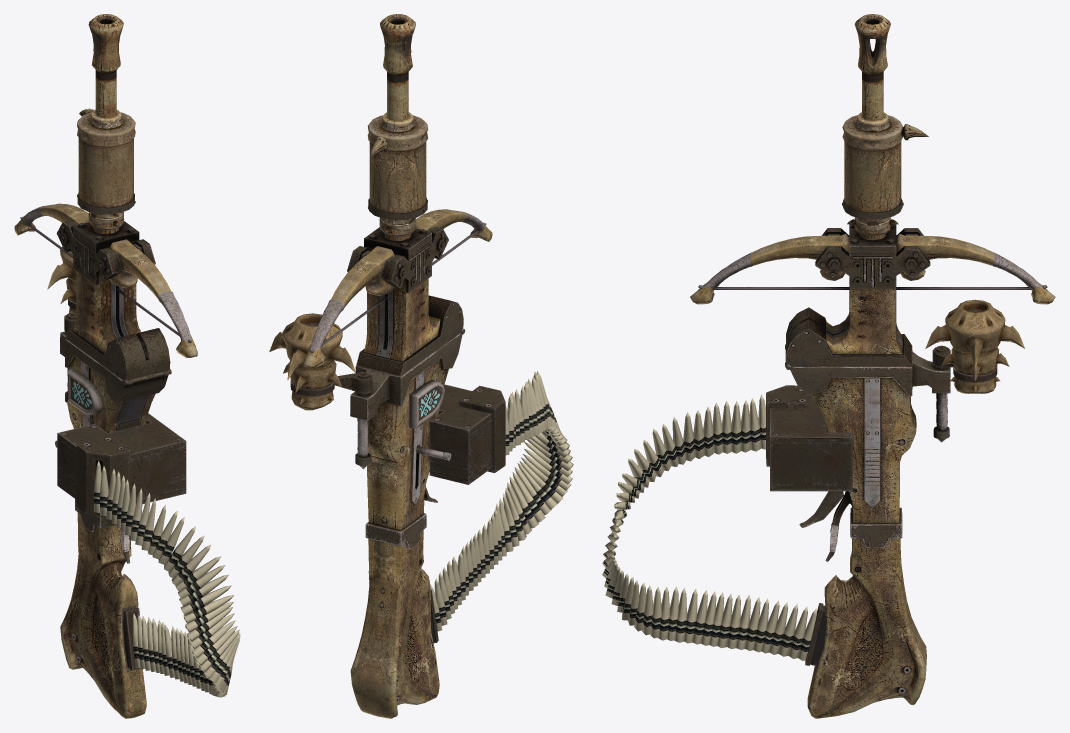
The model's file is bs_lbg007.obj.
3 views of the same model, side by side, from view 1: azimuth 30°, elevation 25°; view 2: azimuth 150°, elevation 25°; view 3: azimuth 270°, elevation 25° (orthographic). The views are drawn at different scales.
Parts seen in each view (by area): view 1: bs_lbg007_002_LOD_1, bs_lbg007_014_LOD_1, bs_lbg007_004_LOD_1, bs_lbg007_017_LOD_1, bs_lbg007_000_LOD_1, bs_lbg007_003_LOD_1, bs_lbg007_015_LOD_1, bs_lbg007_013_LOD_1, bs_lbg007_016_LOD_1, bs_lbg007_012_LOD_1, bs_lbg007_001_LOD_1; view 2: bs_lbg007_002_LOD_1, bs_lbg007_014_LOD_1, bs_lbg007_004_LOD_1, bs_lbg007_000_LOD_1, bs_lbg007_017_LOD_1, bs_lbg007_003_LOD_1, bs_lbg007_015_LOD_1, bs_lbg007_006_LOD_1, bs_lbg007_013_LOD_1, bs_lbg007_012_LOD_1, bs_lbg007_007_LOD_1, bs_lbg007_005_LOD_1 (+1 smaller); view 3: bs_lbg007_002_LOD_1, bs_lbg007_014_LOD_1, bs_lbg007_004_LOD_1, bs_lbg007_017_LOD_1, bs_lbg007_000_LOD_1, bs_lbg007_003_LOD_1, bs_lbg007_006_LOD_1, bs_lbg007_012_LOD_1, bs_lbg007_015_LOD_1, bs_lbg007_001_LOD_1, bs_lbg007_007_LOD_1, bs_lbg007_016_LOD_1.
Boxes of the visible parts, bbox=[...] form: bs_lbg007_002_LOD_1: bbox=[55, 220, 171, 718]; bs_lbg007_014_LOD_1: bbox=[94, 461, 240, 697]; bs_lbg007_004_LOD_1: bbox=[77, 108, 135, 230]; bs_lbg007_017_LOD_1: bbox=[57, 413, 186, 504]; bs_lbg007_000_LOD_1: bbox=[14, 203, 197, 357]; bs_lbg007_003_LOD_1: bbox=[88, 14, 124, 234]; bs_lbg007_015_LOD_1: bbox=[76, 436, 130, 517]; bs_lbg007_013_LOD_1: bbox=[57, 421, 186, 485]; bs_lbg007_016_LOD_1: bbox=[123, 607, 140, 670]; bs_lbg007_012_LOD_1: bbox=[47, 262, 74, 312]; bs_lbg007_001_LOD_1: bbox=[20, 216, 192, 343]; bs_lbg007_002_LOD_1: bbox=[347, 226, 465, 718]; bs_lbg007_014_LOD_1: bbox=[430, 371, 573, 631]; bs_lbg007_004_LOD_1: bbox=[367, 112, 428, 237]; bs_lbg007_000_LOD_1: bbox=[303, 209, 492, 368]; bs_lbg007_017_LOD_1: bbox=[429, 384, 491, 484]; bs_lbg007_003_LOD_1: bbox=[379, 14, 416, 240]; bs_lbg007_015_LOD_1: bbox=[459, 385, 505, 472]; bs_lbg007_006_LOD_1: bbox=[282, 313, 342, 368]; bs_lbg007_013_LOD_1: bbox=[429, 411, 491, 470]; bs_lbg007_012_LOD_1: bbox=[269, 332, 355, 404]; bs_lbg007_007_LOD_1: bbox=[288, 360, 336, 389]; bs_lbg007_005_LOD_1: bbox=[334, 372, 372, 395]; bs_lbg007_002_LOD_1: bbox=[785, 224, 950, 718]; bs_lbg007_014_LOD_1: bbox=[602, 394, 817, 660]; bs_lbg007_004_LOD_1: bbox=[842, 112, 928, 236]; bs_lbg007_017_LOD_1: bbox=[770, 394, 852, 491]; bs_lbg007_000_LOD_1: bbox=[690, 234, 1055, 304]; bs_lbg007_003_LOD_1: bbox=[854, 14, 890, 240]; bs_lbg007_006_LOD_1: bbox=[945, 299, 1005, 352]; bs_lbg007_012_LOD_1: bbox=[925, 325, 1024, 391]; bs_lbg007_015_LOD_1: bbox=[766, 385, 806, 466]; bs_lbg007_001_LOD_1: bbox=[698, 285, 1047, 289]; bs_lbg007_007_LOD_1: bbox=[951, 347, 998, 374]; bs_lbg007_016_LOD_1: bbox=[805, 603, 826, 666].
Size of the model in its own units: 38.88 by 183 by 108.
